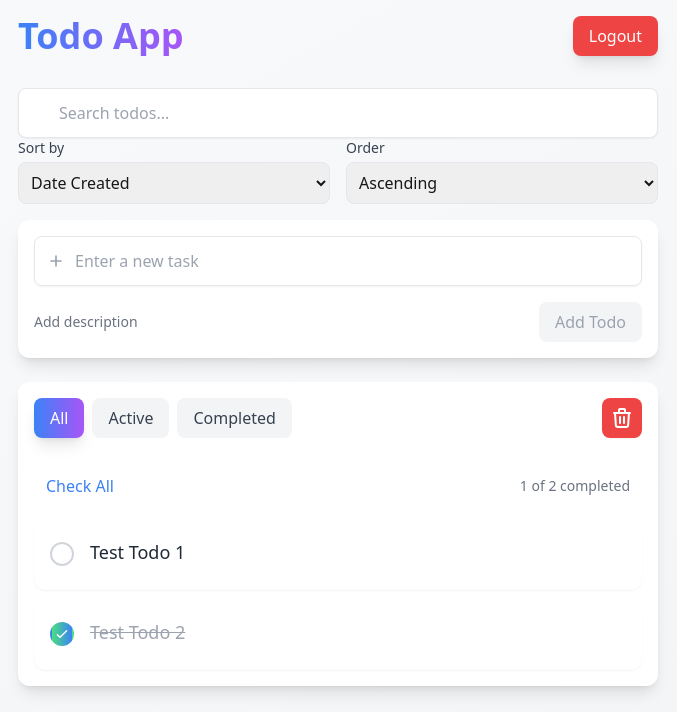
Test case: TodosPage › shows error message when no todos match search
Type "nonexistent" into the field with placeholder "Search todos...".
click(338, 113); type("nonexistent")  # box [18, 88, 658, 138]
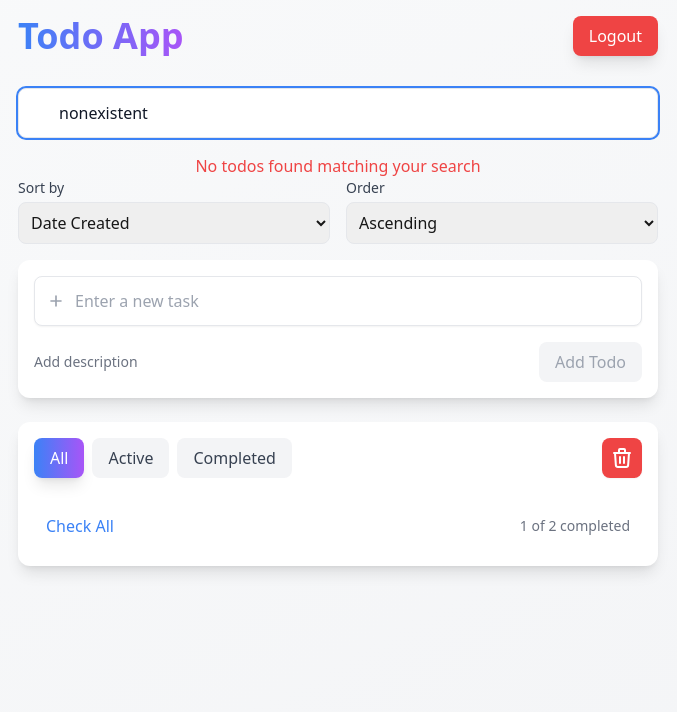
Expected: the text "No todos found matching your search" is shown, [196, 155, 481, 177]
